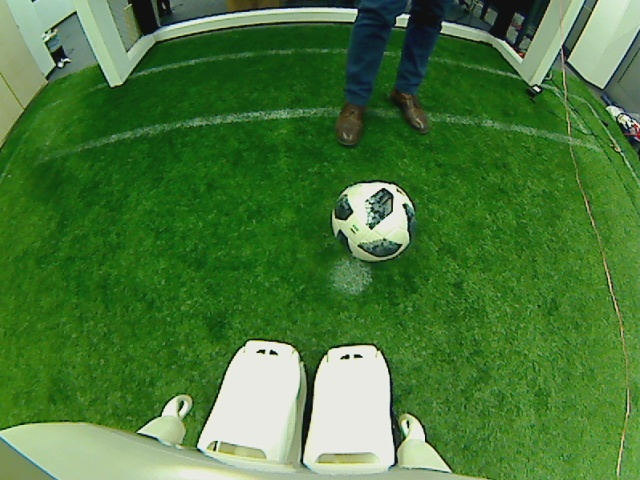ball: (333, 175, 413, 265)
